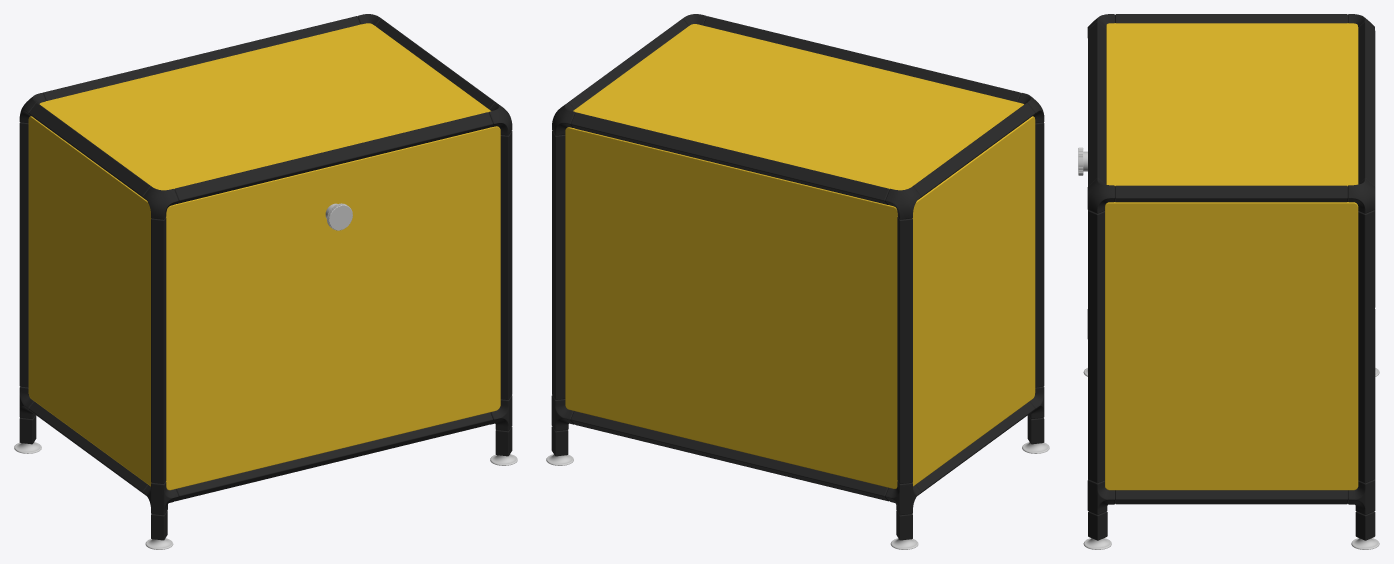
3 renders of one model, left to right at view 1: azimuth 30°, elevation 25°; view 2: azimuth 150°, elevation 25°; view 3: azimuth 270°, elevation 25°, orthographic.
Visible parts, largest first — view 1: 523x329x420; view 2: 523x329x420; view 3: 523x329x420.
Part boxes in pixels (x1=…): 523x329x420: x1=14, y1=14, x2=517, y2=549; 523x329x420: x1=546, y1=14, x2=1049, y2=549; 523x329x420: x1=1078, y1=14, x2=1379, y2=549.
Size of the model in its own units: 0.6129 by 0.5593 by 0.4257.
